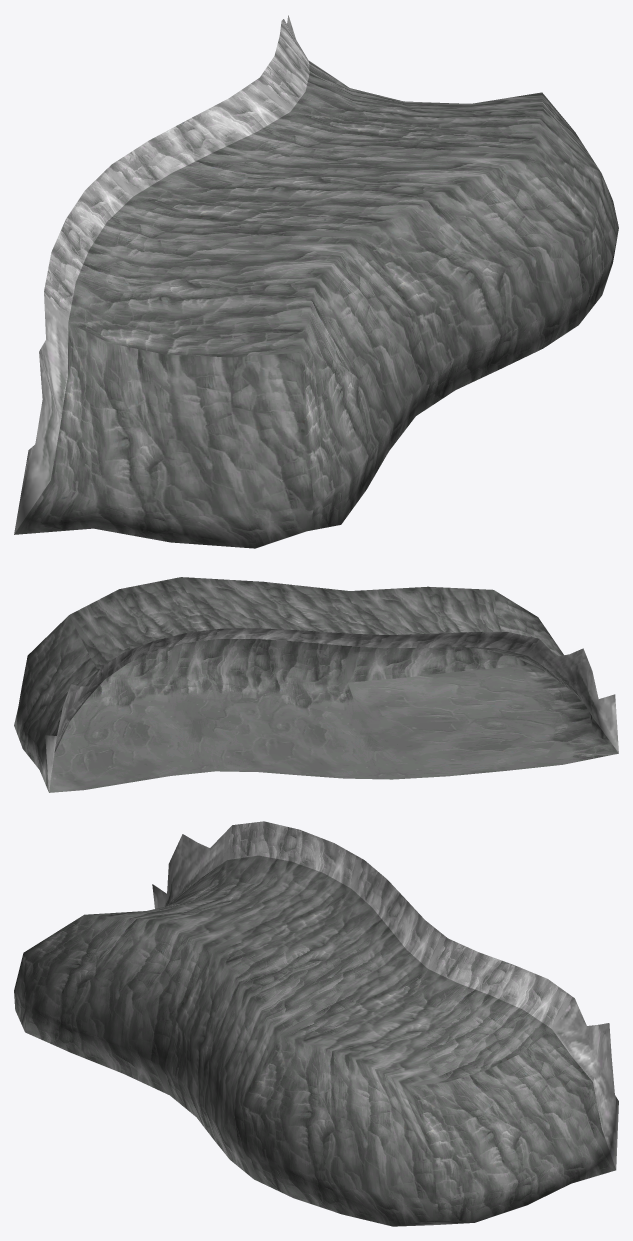
Rendered from SWORDLIGHT20_PS-AREA03_26.fbx.
The picture shows the model from 3 angles, top to bottom: view 1: azimuth 30°, elevation 25°; view 2: azimuth 150°, elevation 25°; view 3: azimuth 270°, elevation 25°; orthographic projection. The views are drawn at different scales.
Visible parts, largest first — view 1: SWORDLIGHT20_PS-AREA03_26; view 2: SWORDLIGHT20_PS-AREA03_26; view 3: SWORDLIGHT20_PS-AREA03_26.
Part boxes in pixels (<box>): SWORDLIGHT20_PS-AREA03_26: <box>14,15,618,548</box>; SWORDLIGHT20_PS-AREA03_26: <box>14,577,618,792</box>; SWORDLIGHT20_PS-AREA03_26: <box>14,821,618,1226</box>.
Size of the model in its own units: 205530 by 59121 by 181808.
Materials: 5 (5 with a texture image).
